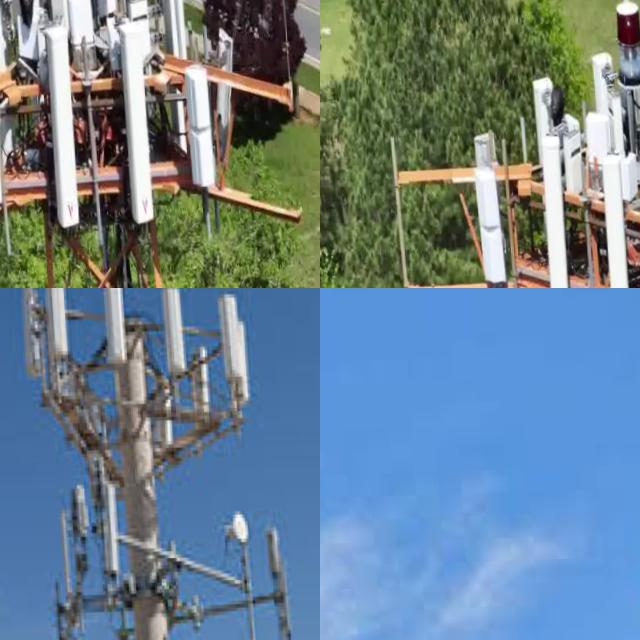GSM Antenna: (34, 22, 78, 233), (112, 18, 153, 225), (531, 123, 573, 288), (591, 145, 634, 288), (462, 157, 505, 288), (181, 61, 216, 196), (206, 31, 240, 165), (91, 288, 132, 374), (262, 523, 292, 640), (13, 288, 48, 378), (95, 473, 122, 586), (156, 288, 190, 377), (215, 288, 244, 390), (59, 0, 93, 72), (39, 288, 67, 364), (156, 0, 185, 65)
Microwave Antenna: (212, 506, 255, 557)
